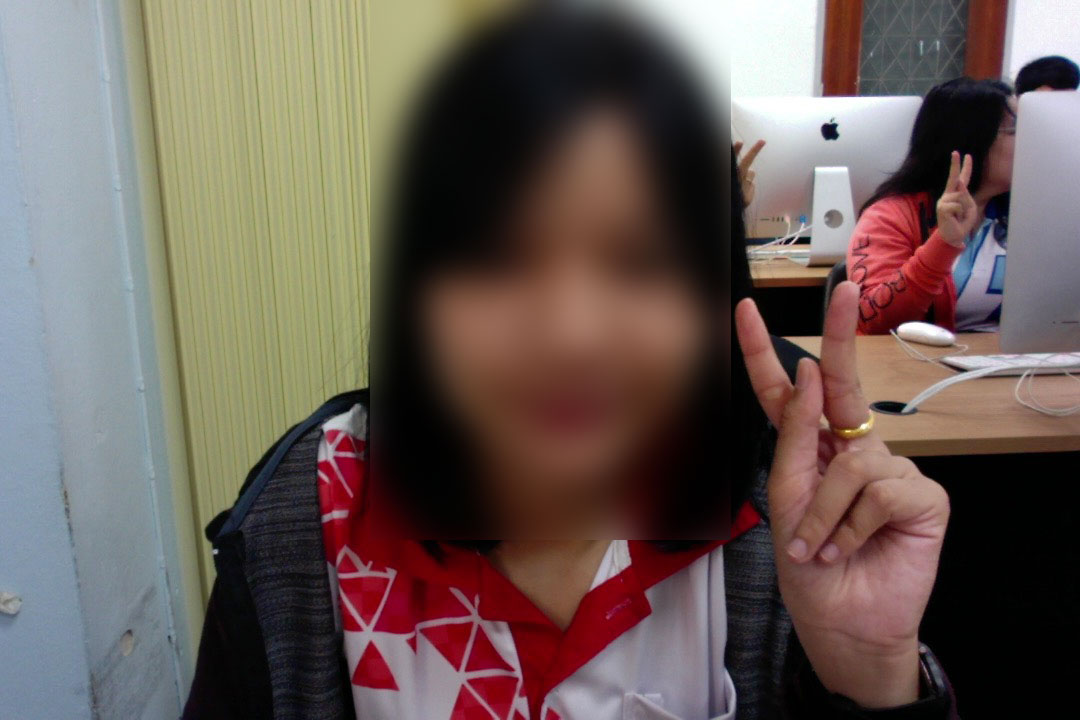ko: (723, 268, 959, 690)
